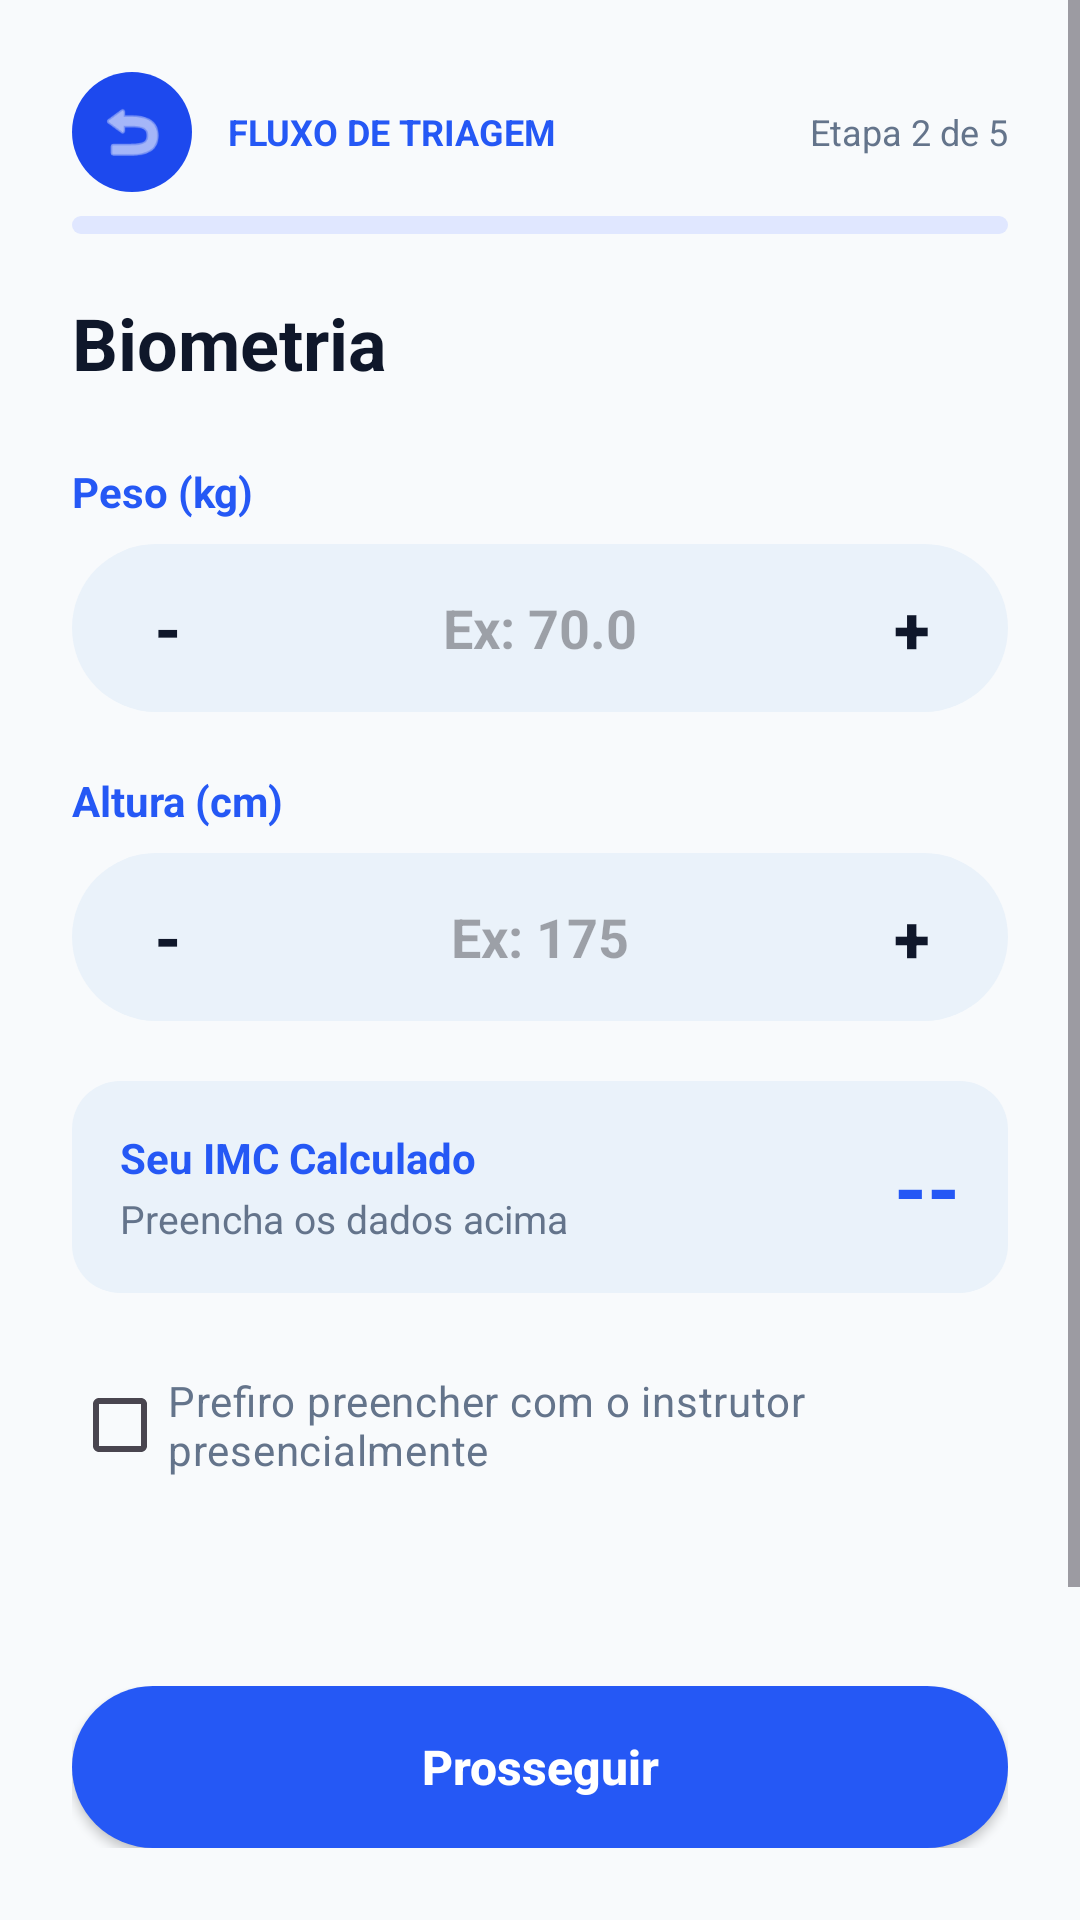

Icon bounding boxes for this 1080w x 1920h phone screenshot, format [x1,y1,x2,y2]:
revert: [72,72,192,192]
